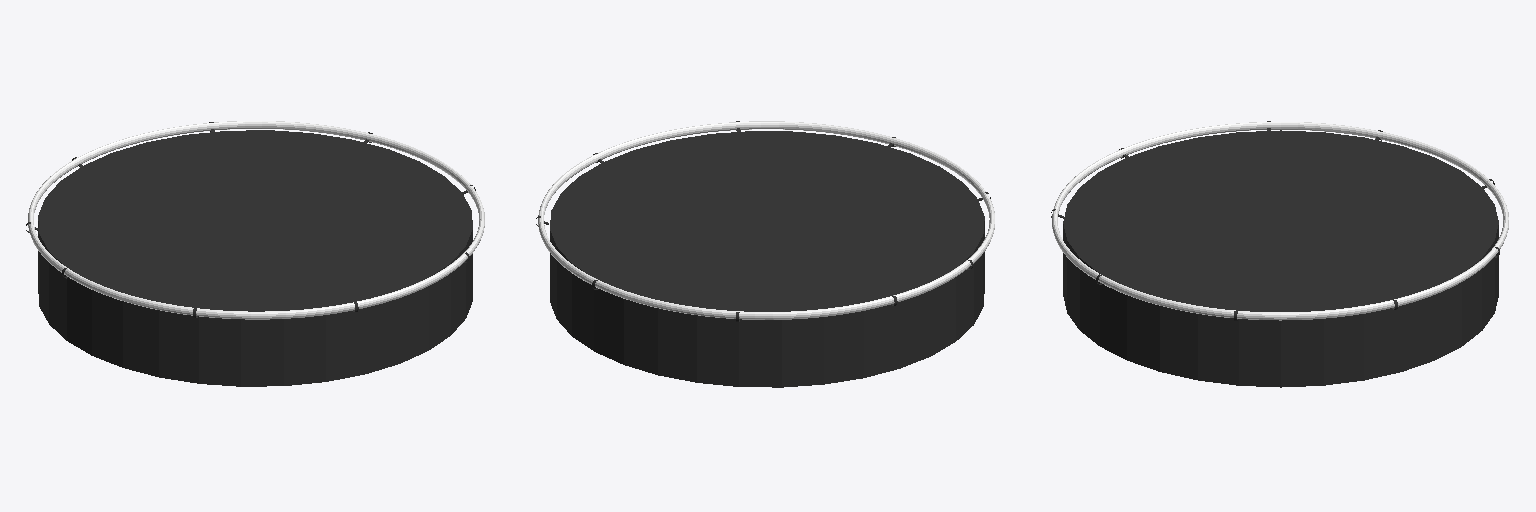
3 views of the same model, side by side, from view 1: azimuth 30°, elevation 25°; view 2: azimuth 150°, elevation 25°; view 3: azimuth 270°, elevation 25° (orthographic).
Visible parts, largest first — view 1: pasted__pasted__pTorus1_001_Mesh_067; view 2: pasted__pasted__pTorus1_001_Mesh_067; view 3: pasted__pasted__pTorus1_001_Mesh_067.
Boxes of the visible parts, box(x1,y1,x2,y2) form: pasted__pasted__pTorus1_001_Mesh_067: box(26, 121, 484, 386); pasted__pasted__pTorus1_001_Mesh_067: box(536, 121, 994, 387); pasted__pasted__pTorus1_001_Mesh_067: box(1051, 121, 1508, 387).
Bounding box in the file's own units: 61.81 × 11.69 × 61.71.
1 materials, 1 textured.